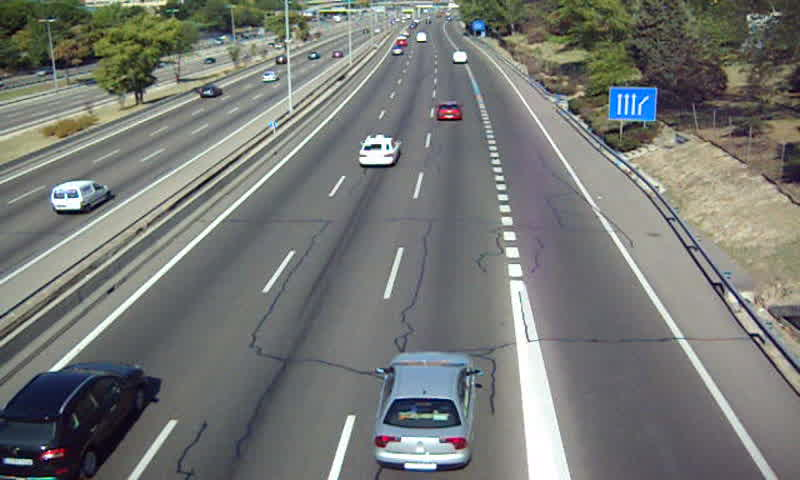car: (1, 360, 142, 480), (375, 354, 474, 469), (360, 136, 400, 166), (436, 102, 462, 123)
van: (452, 50, 468, 65)
